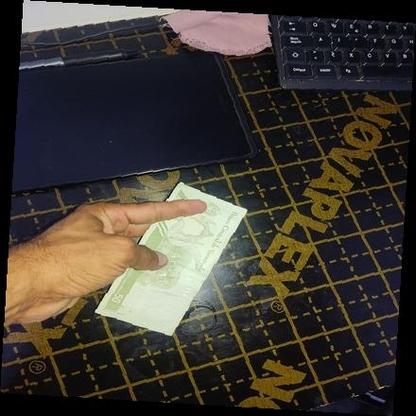fifty-back-vef: (94, 180, 249, 338)
